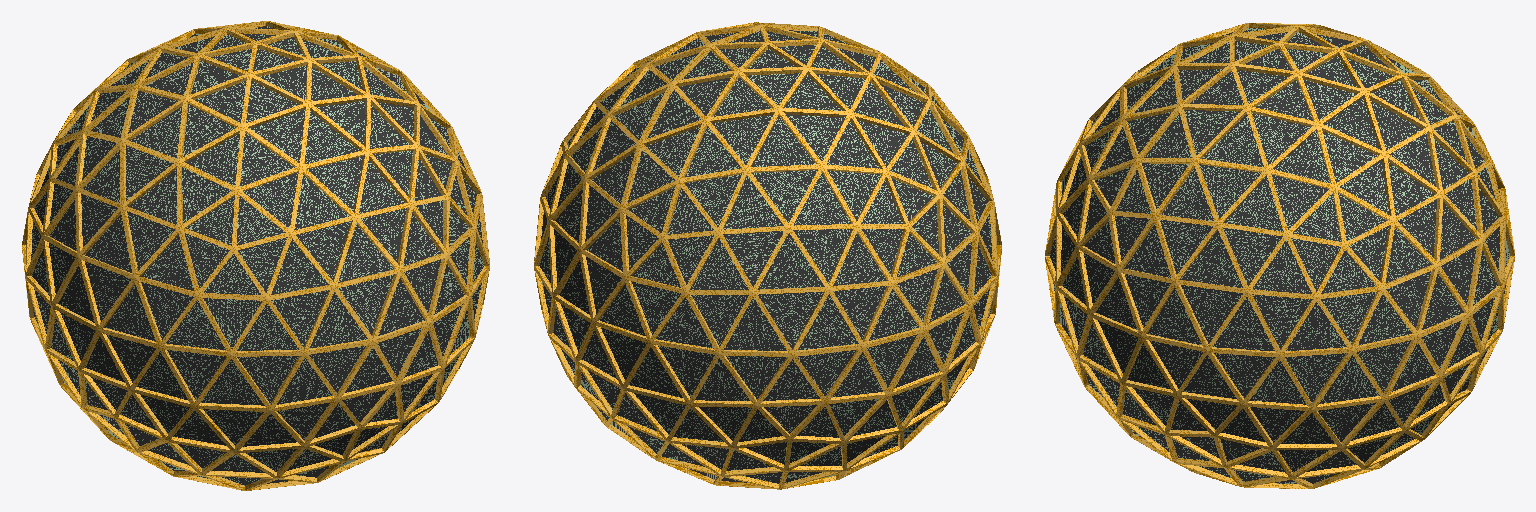
File: bola.obj
3 views of the same model, side by side, from view 1: azimuth 30°, elevation 25°; view 2: azimuth 150°, elevation 25°; view 3: azimuth 270°, elevation 25° (orthographic).
Parts seen in each view (by area): view 1: polySurface1; view 2: polySurface1; view 3: polySurface1.
Boxes of the visible parts, x1,y1,x2,y2 form: polySurface1: [22, 21, 489, 490]; polySurface1: [534, 22, 1001, 489]; polySurface1: [1045, 23, 1514, 488].
Size of the model in its own units: 30.91 by 30.91 by 30.91.